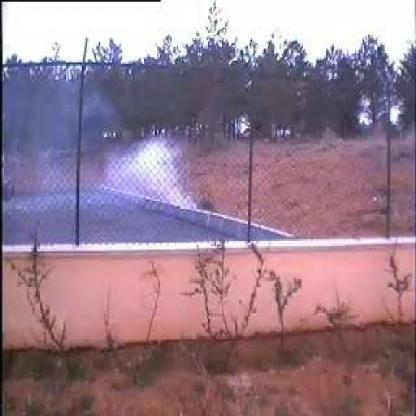-: (86, 129, 198, 238)
